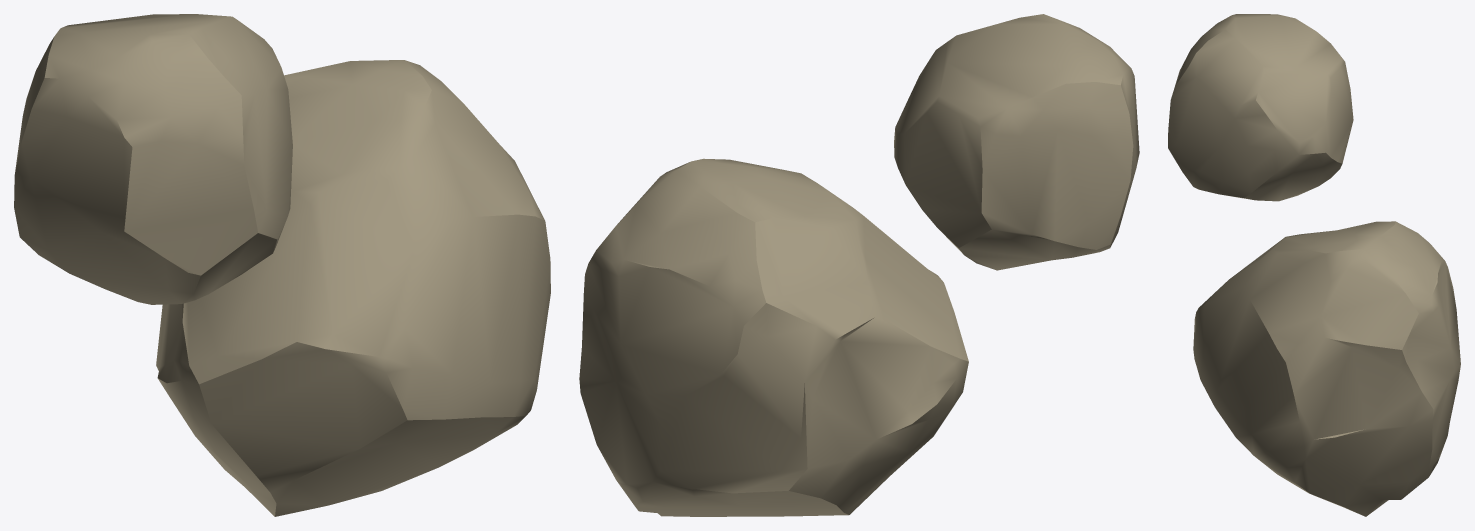
The model's file is rocks.glb.
3 views of the same model, side by side, from view 1: azimuth 30°, elevation 25°; view 2: azimuth 150°, elevation 25°; view 3: azimuth 270°, elevation 25° (orthographic). The views are drawn at different scales.
Visible parts, largest first — view 1: UI_Rocks; view 2: UI_Rocks; view 3: UI_Rocks.
Boxes of the visible parts, x1,y1,x2,y2 form: UI_Rocks: (14, 14, 550, 516); UI_Rocks: (579, 14, 1139, 516); UI_Rocks: (1168, 14, 1460, 516).
Bounding box in the file's own units: 0.4073 × 0.4131 × 0.2855.
Materials: 1 (1 with a texture image).
